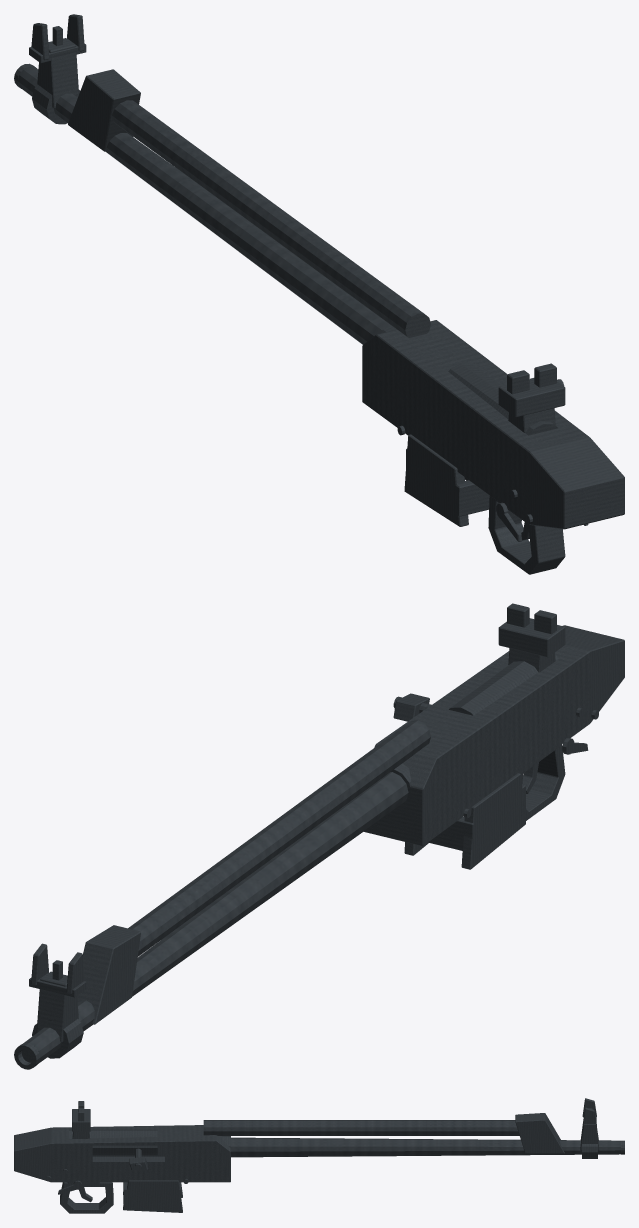
The model's file is weapon_m14.glb.
3 views of the same model, one above another, from view 1: azimuth 30°, elevation 25°; view 2: azimuth 150°, elevation 25°; view 3: azimuth 270°, elevation 25° (orthographic). The views are drawn at different scales.
Parts seen in each view (by area): view 1: body_LOD0, action_LOD0; view 2: body_LOD0, action_LOD0; view 3: body_LOD0, action_LOD0.
Part boxes in pixels (<box>): body_LOD0: <box>14,14,624,574</box>; action_LOD0: <box>448,363,564,435</box>; body_LOD0: <box>14,603,624,1069</box>; action_LOD0: <box>393,654,558,721</box>; body_LOD0: <box>14,1098,624,1213</box>; action_LOD0: <box>69,1129,157,1170</box>.
Size of what is drawn, in the model's own units: 0.1455 by 0.2367 by 1.23.
1 material, 1 textured.
